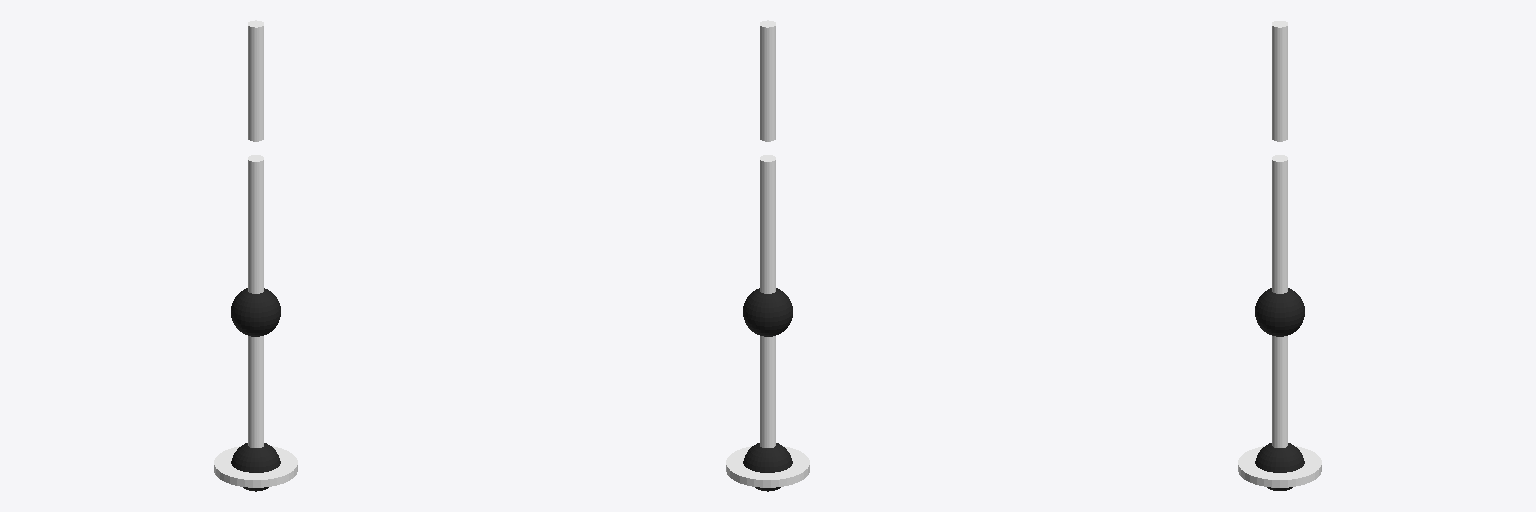
robot.urdf — arm:
<?xml version="1.0"?>
<robot name="arm">

  <!-- Links -->
  <link name="base_link">
    <visual>
      <geometry>
        <cylinder length="0.01" radius="0.05"/>
      </geometry>
      <material name="white">
        <color rgba="1 1 1 1"/>
      </material>
    </visual>
  </link>

  <link name="link_1">
    <visual>
      <geometry>
        <sphere radius="0.03"/>
      </geometry>
      <material name="gray">
        <color rgba="0.2 0.2 0.2 1"/>
      </material>
      <origin xyz="0 0 0" rpy="0 0 0"/>
    </visual>
  </link>

  <link name="link_2">
    <visual>
      <geometry>
        <cylinder length="0.178" radius="0.01"/>
      </geometry>
      <material name="white">
        <color rgba="1 1 1 1"/>
      </material>
      <origin xyz="0 0 0.1" rpy="0 0 0"/>
    </visual>
  </link>

  <link name="link_2_3">
    <visual>
      <geometry>
        <sphere radius="0.03"/>
      </geometry>
      <material name="gray">
        <color rgba="0.2 0.2 0.2 1"/>
      </material>
      <origin xyz="0 0 0" rpy="0 0 0"/>
    </visual>
  </link>

  <link name="link_3">
    <visual>
      <geometry>
        <cylinder length="0.203" radius="0.01"/>
      </geometry>
      <material name="white">
        <color rgba="1 1 1 1"/>
      </material>
      <origin xyz="0 0 0.1" rpy="0 0 0"/>
    </visual>
  </link>

  <link name="link_4">
    <visual>
      <geometry>
        <cylinder length="0.05" radius="0.01"/>
      </geometry>
      <material name="white">
        <color rgba="1 1 1 1"/>
      </material>
      <origin xyz="0 0 0.1" rpy="0 0 0"/>
    </visual>
  </link>

  <link name="link_5">
    <visual>
      <geometry>
        <cylinder length="0.15" radius="0.01"/>
      </geometry>
      <material name="white">
        <color rgba="1 1 1 1"/>
      </material>
      <origin xyz="0 0 0.1" rpy="0 0 0"/>
    </visual>
  </link>

  <link name="link_6">
    <visual>
      <geometry>
        <cylinder length="0.1" radius="0.01"/>
      </geometry>
      <material name="white">
        <color rgba="1 1 1 1"/>
      </material>
      <origin xyz="0 0 0.1" rpy="0 0 0"/>
    </visual>
  </link>

  <link name="tool0" />

  <!-- Joints -->
  <joint name="joint_1" type="revolute">
    <axis xyz="0 0 1"/>
    <parent link="base_link"/>
    <child link="link_1"/>
    <origin xyz="0 0 0" rpy="0 0 0"/>
    <limit effort="1000.0" lower="-1.62" upper="1.62" velocity="0.5"/>
  </joint>

  <joint name="joint_2" type="revolute">
    <axis xyz="0 1 0"/>
    <parent link="link_1"/>
    <child link="link_2"/>
    <origin xyz="0 0 0" rpy="0 0 0"/>
    <limit effort="1000.0" lower="-0.96" upper="2.182" velocity="0.5"/>
  </joint>

  <joint name="joint_3" type="revolute">
    <axis xyz="0 1 0"/>
    <parent link="link_2"/>
    <child link="link_3"/>
    <origin xyz="0 0 0.203" rpy="0 0 0"/>
    <limit effort="1000.0" lower="-0.96" upper="2.182" velocity="0.5"/>
  </joint>

  <joint name="joint_4" type="revolute">
    <axis xyz="0 0 1"/>
    <parent link="link_3"/>
    <child link="link_4"/>
    <origin xyz="0 0 0.203" rpy="0 0 0"/>
    <limit effort="1000.0" lower="-3.14" upper="3.14" velocity="0.5"/>
  </joint>

  <joint name="joint_5" type="revolute">
    <axis xyz="0 1 0"/>
    <parent link="link_4"/>
    <child link="link_5"/>
    <origin xyz="0 0 0" rpy="0 0 0"/>
    <limit effort="1000.0" lower="-2.2" upper="2.2" velocity="0.5"/>
  </joint>

  <joint name="joint_6" type="prismatic">
    <axis xyz="0 0 1"/>
    <parent link="link_5"/>
    <child link="link_6"/>
    <origin xyz="0 0 0" rpy="0 0 0"/>
    <limit effort="1000.0" lower="0" upper="0.1" velocity="0.1"/>
  </joint>

  <joint name="joint_6-tool0" type="fixed">
    <parent link="link_6"/>
    <child link="tool0"/>
    <origin xyz="0 0 0" rpy="0 0 0"/>
  </joint>

  <joint name="joint_2_3" type="fixed">
    <parent link="link_2"/>
    <child link="link_2_3"/>
    <origin xyz="0 0 0.203" rpy="0 0 0"/>
  </joint>

</robot>

--- Render facts (derived) ---
Views: 3 orthographic renders of the robot side by side, from view 1: azimuth 30°, elevation 25°; view 2: azimuth 150°, elevation 25°; view 3: azimuth 270°, elevation 25°.
Robot: arm — 9 links, 8 joints (5 revolute, 1 prismatic, 2 fixed); root link base_link; default pose: all joints at 0.
Visible links, largest first — view 1: link_3, link_2_3, base_link, link_2, link_5, link_1; view 2: link_3, link_2_3, base_link, link_2, link_5, link_1; view 3: link_3, link_2_3, base_link, link_2, link_5, link_1.
Boxes of the visible links, <box> form: link_3: <box>248,155,263,293</box>; link_2_3: <box>231,288,280,336</box>; base_link: <box>214,446,297,487</box>; link_2: <box>248,336,263,447</box>; link_5: <box>248,20,263,141</box>; link_1: <box>231,443,280,491</box>; link_3: <box>760,155,775,293</box>; link_2_3: <box>743,288,792,336</box>; base_link: <box>726,446,809,487</box>; link_2: <box>760,336,775,447</box>; link_5: <box>760,20,775,141</box>; link_1: <box>743,443,792,491</box>; link_3: <box>1272,155,1287,293</box>; link_2_3: <box>1255,288,1304,336</box>; base_link: <box>1238,446,1321,487</box>; link_2: <box>1272,336,1287,447</box>; link_5: <box>1272,21,1287,141</box>; link_1: <box>1255,443,1304,490</box>.
Size in the robot's own frame: 0.1 by 0.1 by 0.611 metres.
Geometry: primitives only (box / cylinder / sphere), no mesh files.